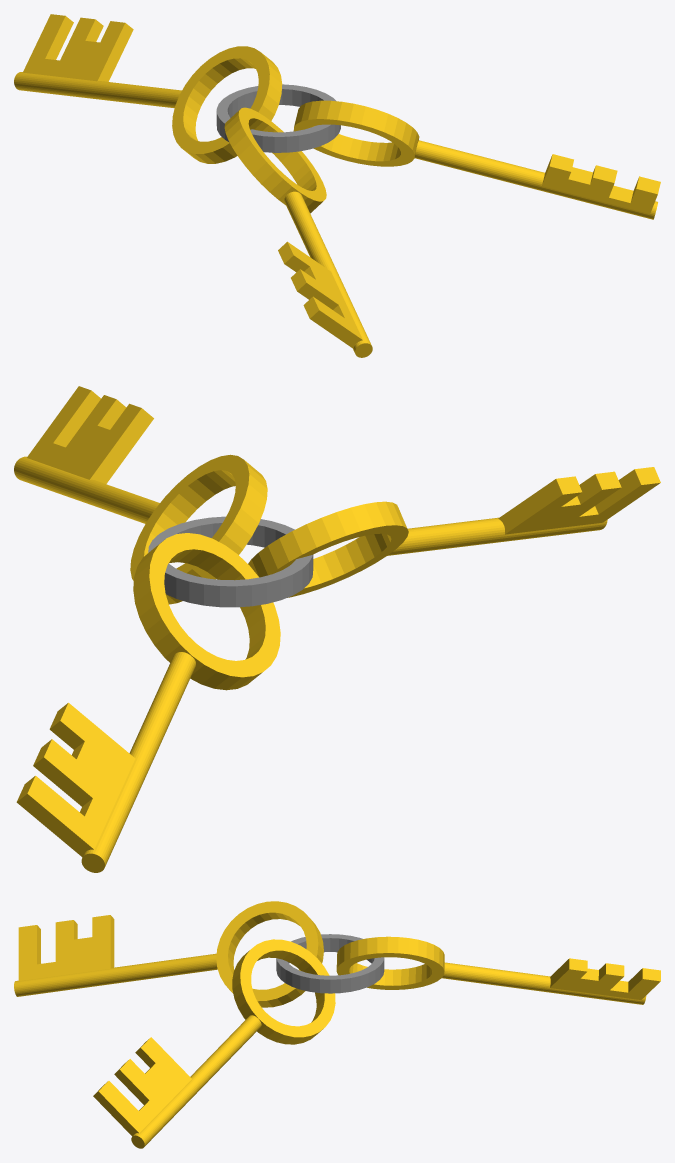
File: keys.fbx
3 renders of one model, top to bottom at view 1: azimuth 30°, elevation 25°; view 2: azimuth 150°, elevation 25°; view 3: azimuth 270°, elevation 25°, orthographic. The views are drawn at different scales.
Visible parts, largest first — view 1: Cylinder.003, Cylinder.002, Cylinder.001, Cylinder; view 2: Cylinder.003, Cylinder.002, Cylinder.001, Cylinder; view 3: Cylinder.002, Cylinder.001, Cylinder.003, Cylinder.
Boxes of the visible parts, bbox=[...] form: Cylinder.003: bbox=[14, 14, 282, 163]; Cylinder.002: bbox=[293, 100, 660, 219]; Cylinder.001: bbox=[224, 107, 372, 357]; Cylinder: bbox=[216, 84, 340, 152]; Cylinder.003: bbox=[16, 533, 280, 872]; Cylinder.002: bbox=[14, 386, 267, 604]; Cylinder.001: bbox=[248, 467, 660, 597]; Cylinder: bbox=[148, 516, 313, 607]; Cylinder.002: bbox=[93, 939, 335, 1148]; Cylinder.001: bbox=[14, 901, 323, 1007]; Cylinder.003: bbox=[336, 936, 660, 1004]; Cylinder: bbox=[276, 934, 384, 993].
Bounding box in the file's own units: 773 × 217 × 1198.
